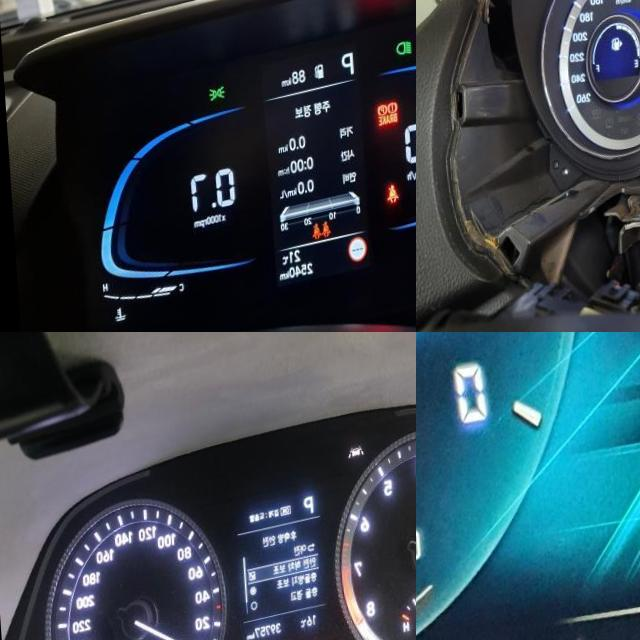LaneCenteringOff: (345, 460, 362, 476)
Low beam: (393, 57, 409, 76)
SideLamp: (206, 94, 223, 112)
